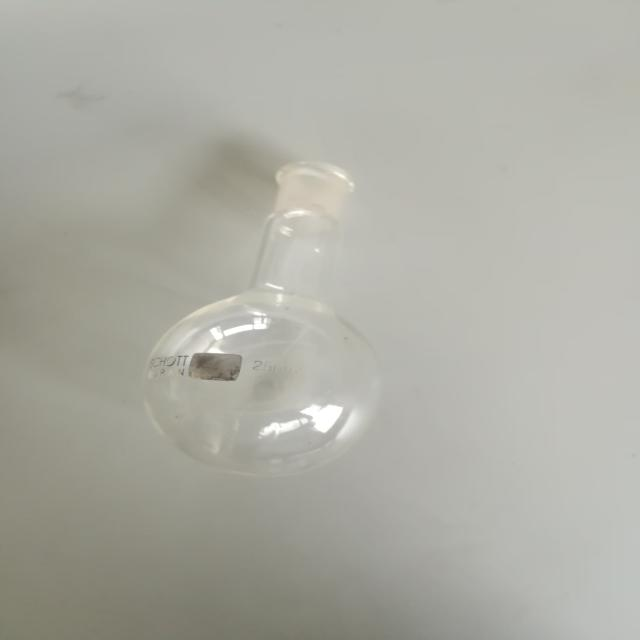Round_Bottom_Flask_Borosilicate_Glass_1_Neck: (73, 84, 446, 524)
